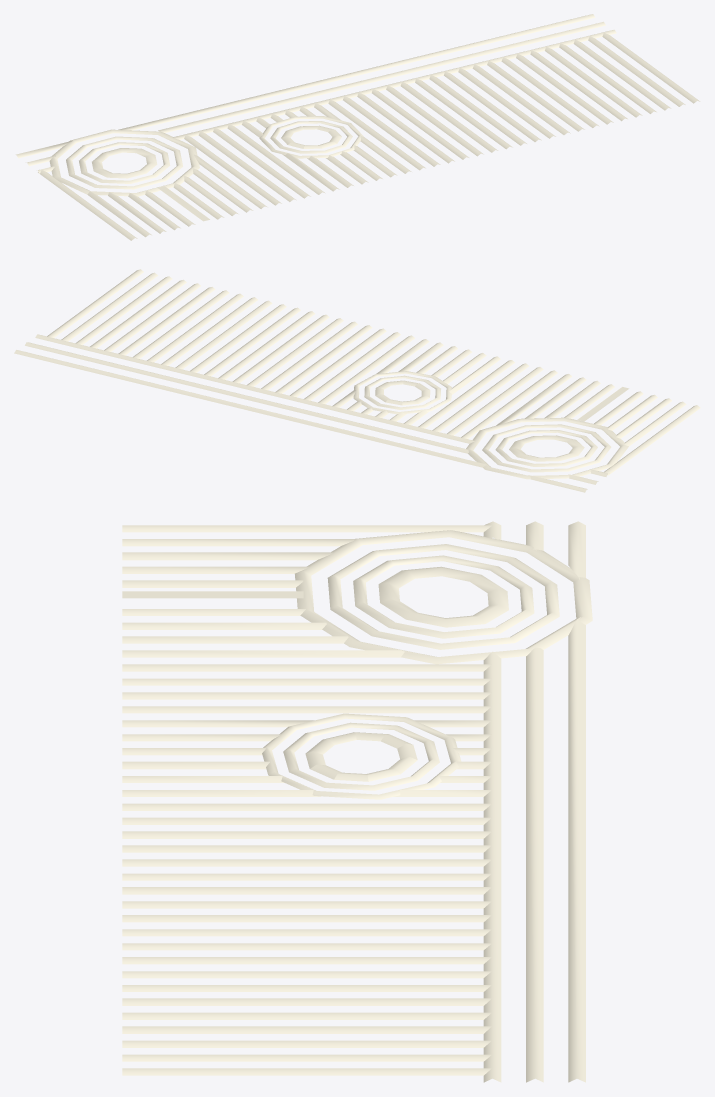
The model's file is StoneFloorPattern_01.fbx.
3 renders of one model, top to bottom at view 1: azimuth 30°, elevation 25°; view 2: azimuth 150°, elevation 25°; view 3: azimuth 270°, elevation 25°, orthographic. The views are drawn at different scales.
Visible parts, largest first — view 1: FloorPattern_01; view 2: FloorPattern_01; view 3: FloorPattern_01.
Part boxes in pixels (x1=…): FloorPattern_01: x1=16, y1=14, x2=700, y2=240; FloorPattern_01: x1=14, y1=269, x2=700, y2=492; FloorPattern_01: x1=122, y1=521, x2=592, y2=1082.
Size of the model in its own units: 3877 by 13.18 by 1384.
